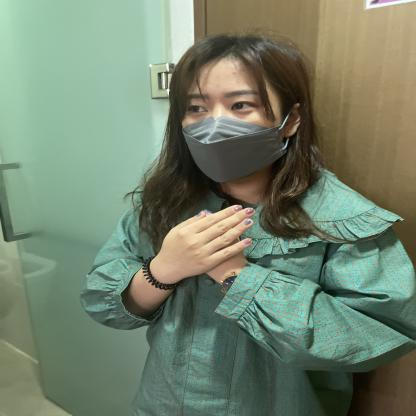Grieve: (80, 194, 390, 343)
